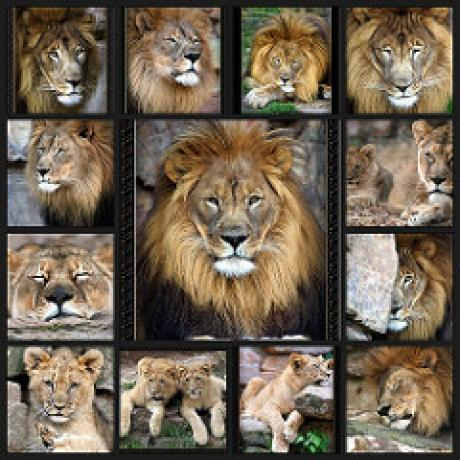Lion: (139, 120, 326, 336), (348, 6, 454, 107), (124, 9, 220, 112), (15, 8, 109, 112), (10, 345, 102, 450), (7, 239, 113, 330), (239, 7, 330, 110), (243, 352, 331, 456), (24, 120, 110, 226), (365, 345, 456, 439), (386, 233, 454, 342), (121, 358, 179, 436), (415, 118, 454, 220), (180, 363, 227, 445), (343, 140, 394, 208)
